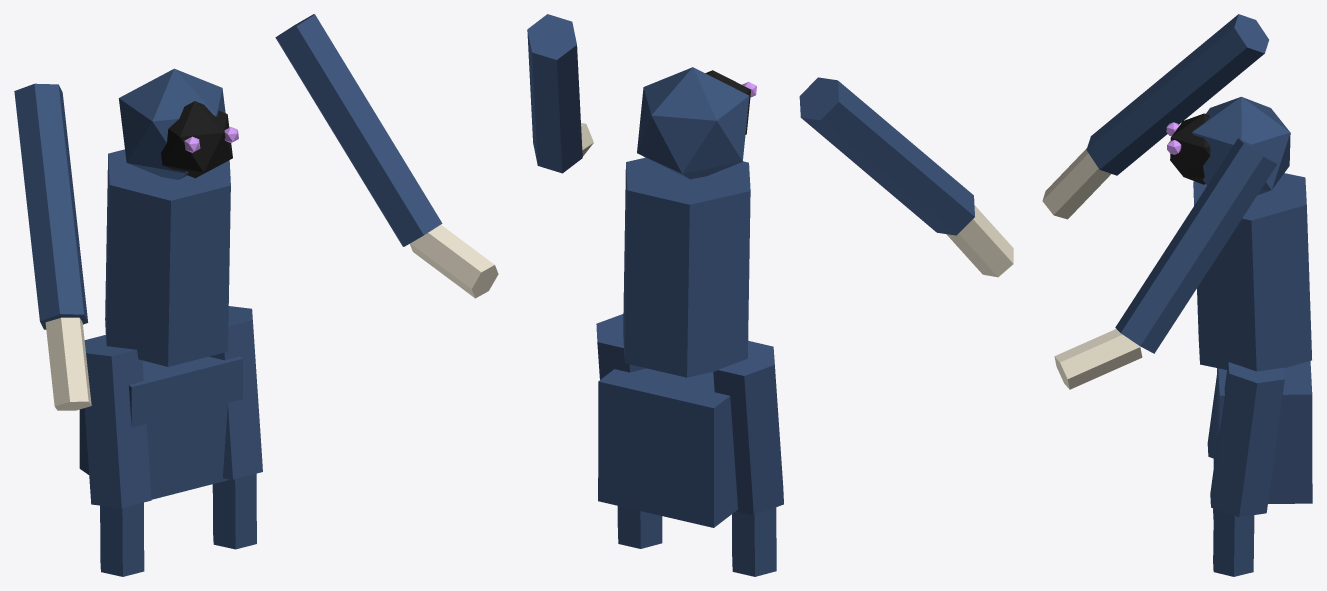
File: npcpose_wraith_attack_10.glb
3 views of the same model, side by side, from view 1: azimuth 30°, elevation 25°; view 2: azimuth 150°, elevation 25°; view 3: azimuth 270°, elevation 25° (orthographic). The views are drawn at different scales.
Parts seen in each view (by area): view 1: npcpose; view 2: npcpose; view 3: npcpose.
Boxes of the visible parts, x1,y1,x2,y2 form: npcpose: [14, 14, 498, 576]; npcpose: [527, 14, 1013, 576]; npcpose: [1042, 14, 1312, 576].
Size of the model in its own units: 1.03 by 1.11 by 0.5835.
